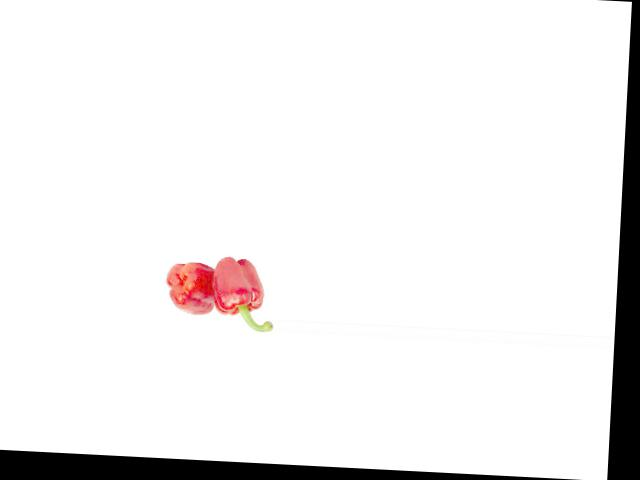bell_pepper: (164, 258, 216, 318)
